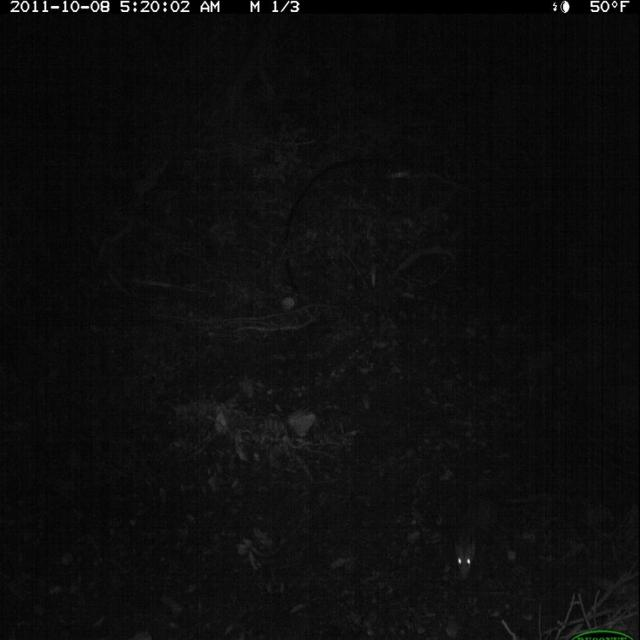opossum: (445, 471, 510, 602)
